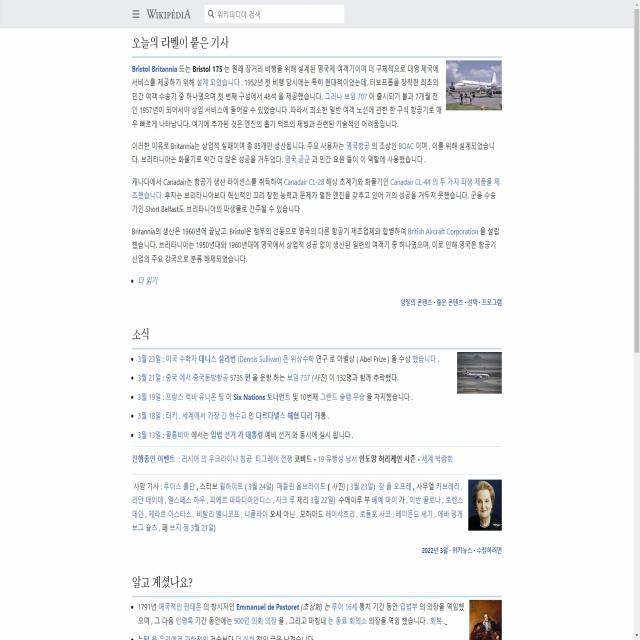search: (202, 2, 346, 26)
